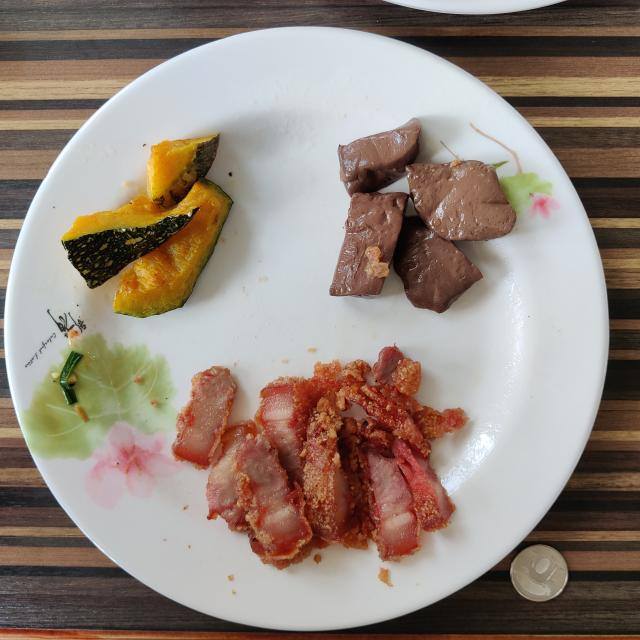coin: (510, 545, 569, 601)
pig blood curd: (330, 119, 516, 312)
pumpkin: (61, 134, 232, 318)
red grilled pork: (172, 346, 468, 569)
